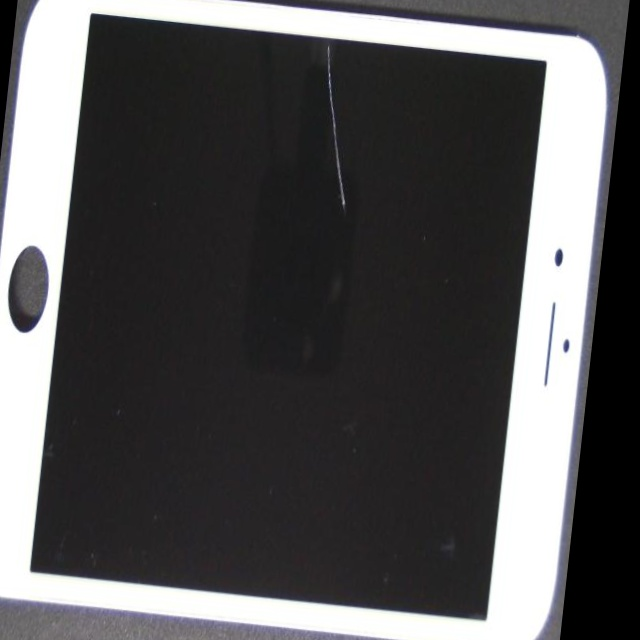scratch: (123, 0, 490, 202)
